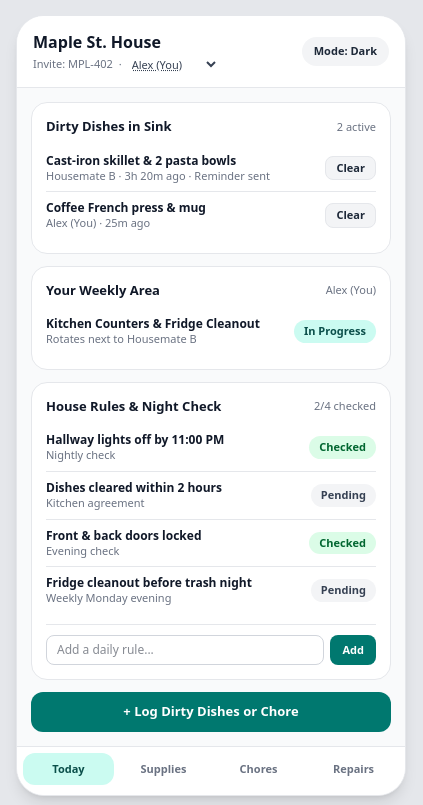
Test case: HouseFlow Tasks 8-10: supplies, repairs, daily house rules, and preview controls › flags a supply low, marks an out supply restocked, and adds a new supply (US-5)
Click the button "Supplies" at (164, 769), box top-left (118, 753), bottom-right (209, 785)
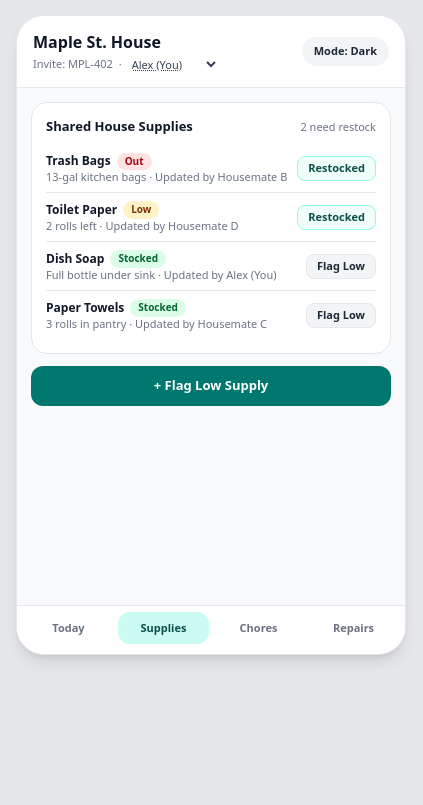
Restock Trash Bags (initially Out)
Click the button "Out" at (134, 161), box top-left (117, 152), bottom-right (152, 170)
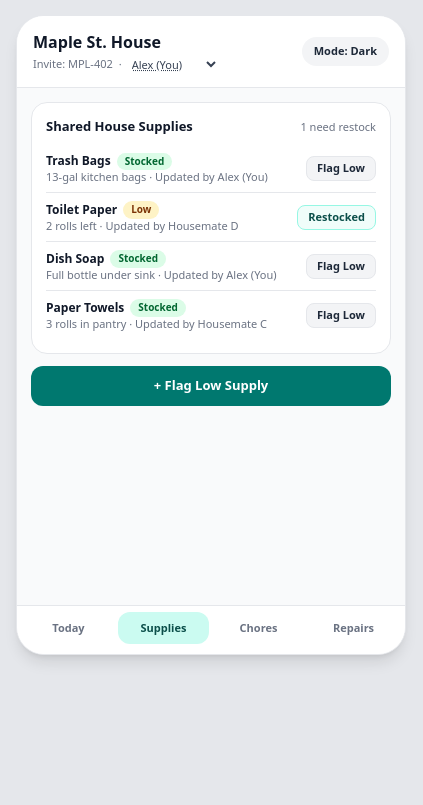
expect the button with aria-label "Trash Bags status: Stocked. Tap to cycle" is shown: met, box top-left (117, 152), bottom-right (172, 170)
Flag Dish Soap as low
Click the button "Stocked" next to "Dish Soap" at (138, 259), box top-left (110, 250), bottom-right (166, 268)
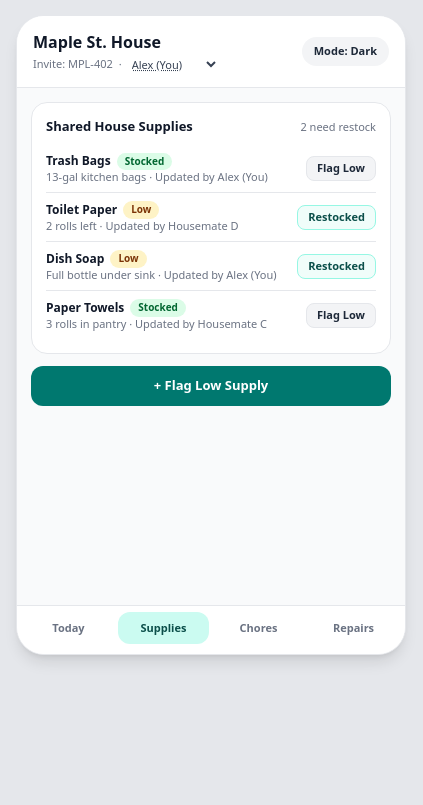
expect the button with aria-label "Dish Soap status: Low. Tap to cycle" is shown: met, box top-left (110, 250), bottom-right (147, 268)
Add a new needed supply
Click the button "+ Flag Low Supply" at (211, 386), box top-left (31, 366), bottom-right (391, 406)
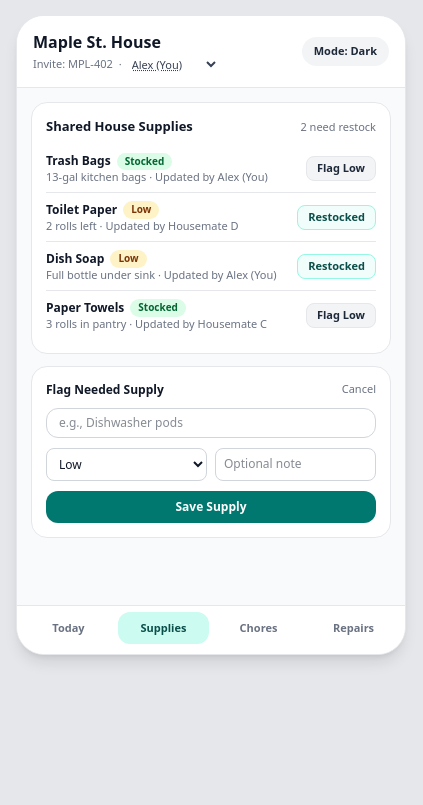
Type "Dishwasher pods" into the field named "Supply item name" at (211, 423), box top-left (46, 408), bottom-right (376, 438)
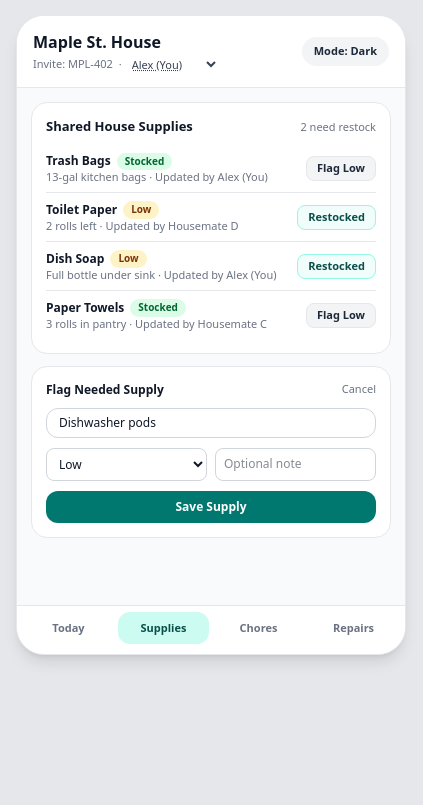
Click the button "Save Supply" at (211, 507), box top-left (46, 491), bottom-right (376, 523)
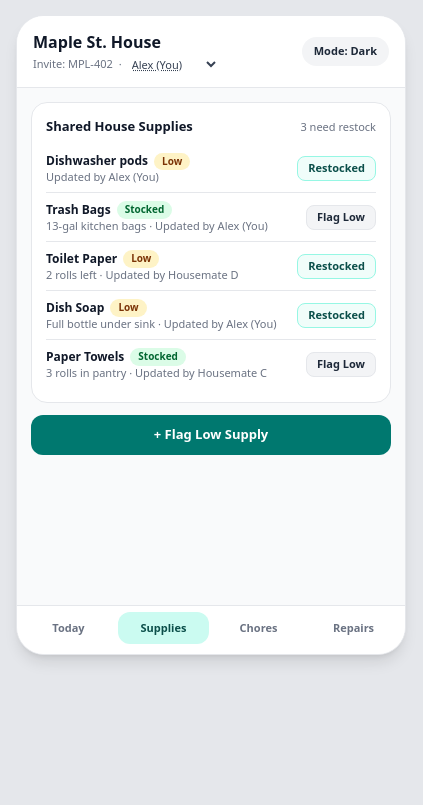
expect the text "Dishwasher pods" is shown: met, box top-left (46, 153), bottom-right (148, 169)
